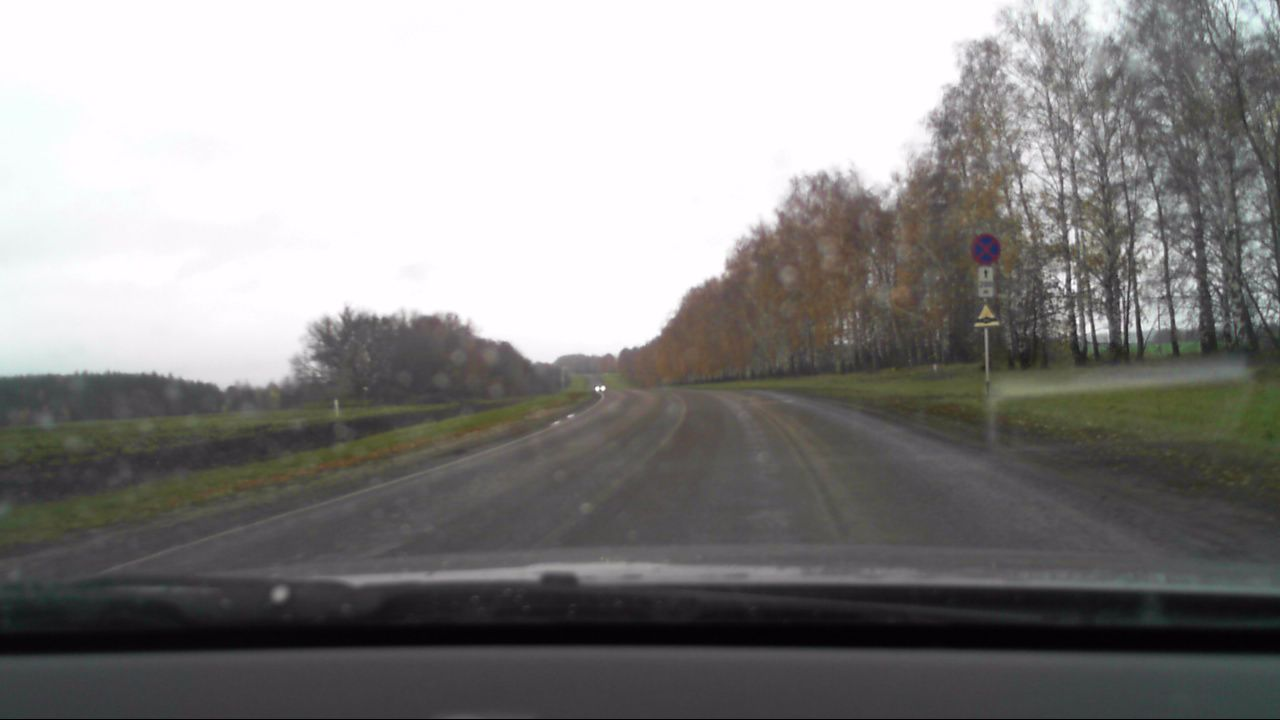No Parking: (969, 233, 1002, 266)
